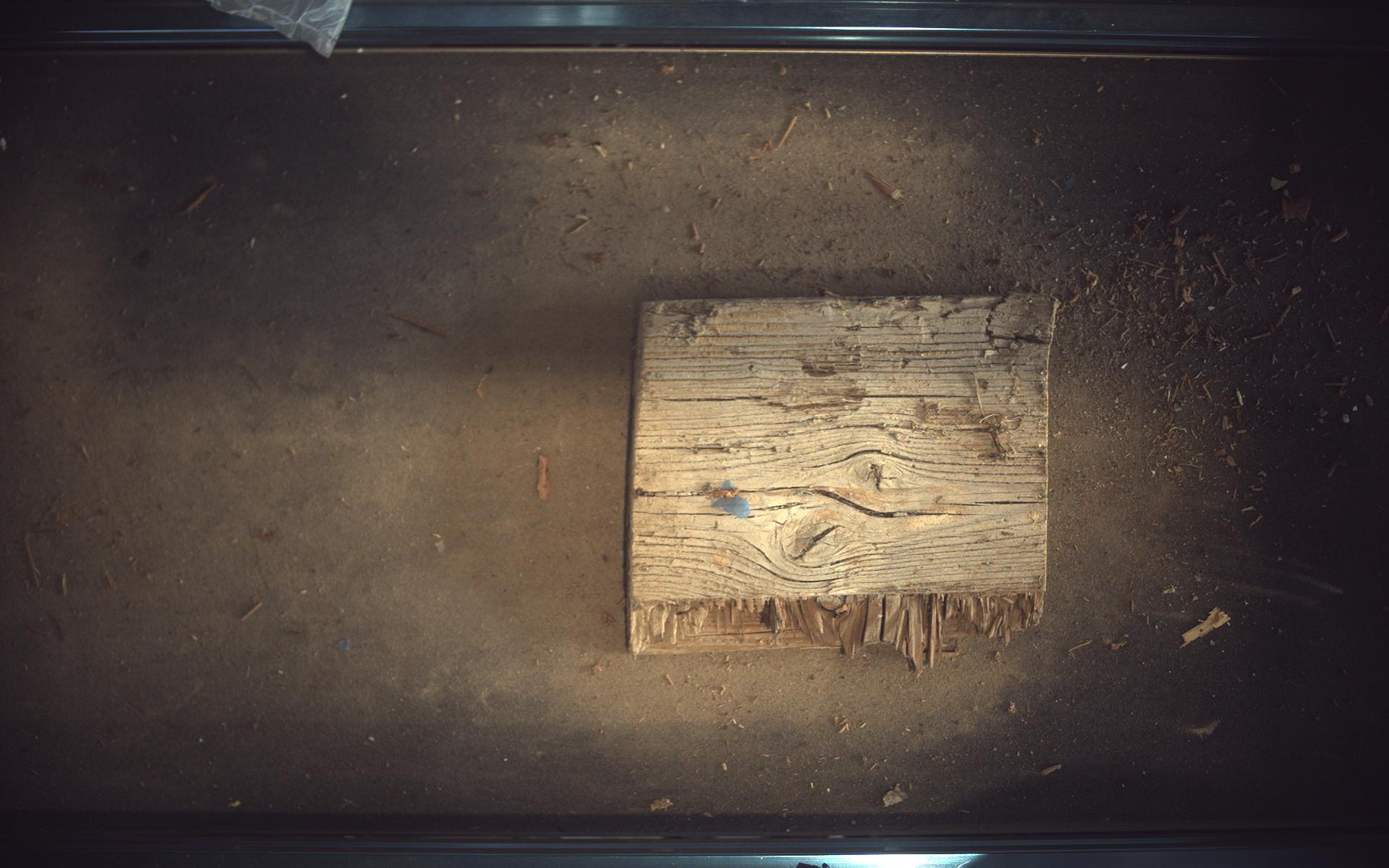wood: (628, 294, 1058, 670)
